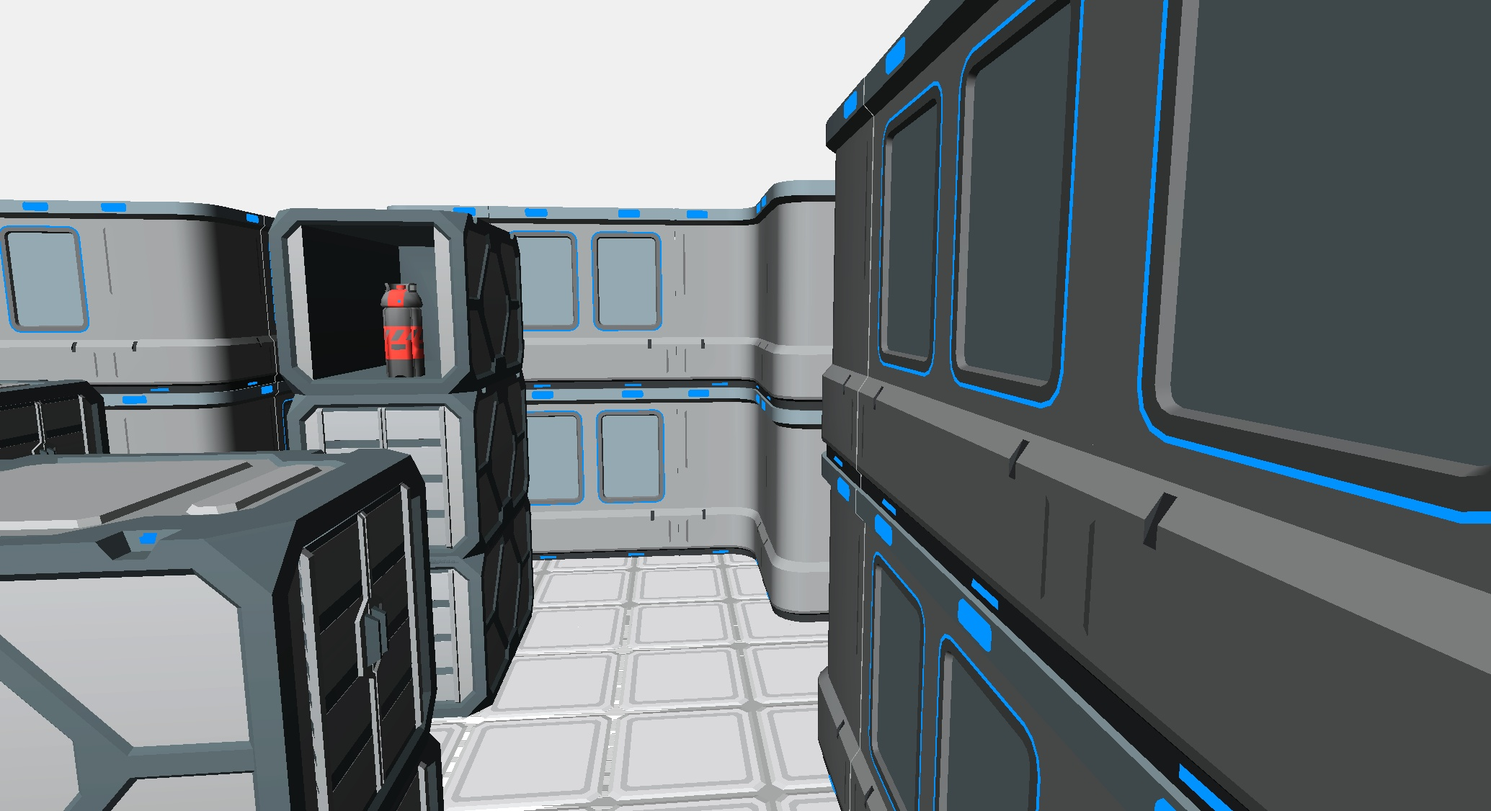red_barrel: (381, 284, 423, 377)
